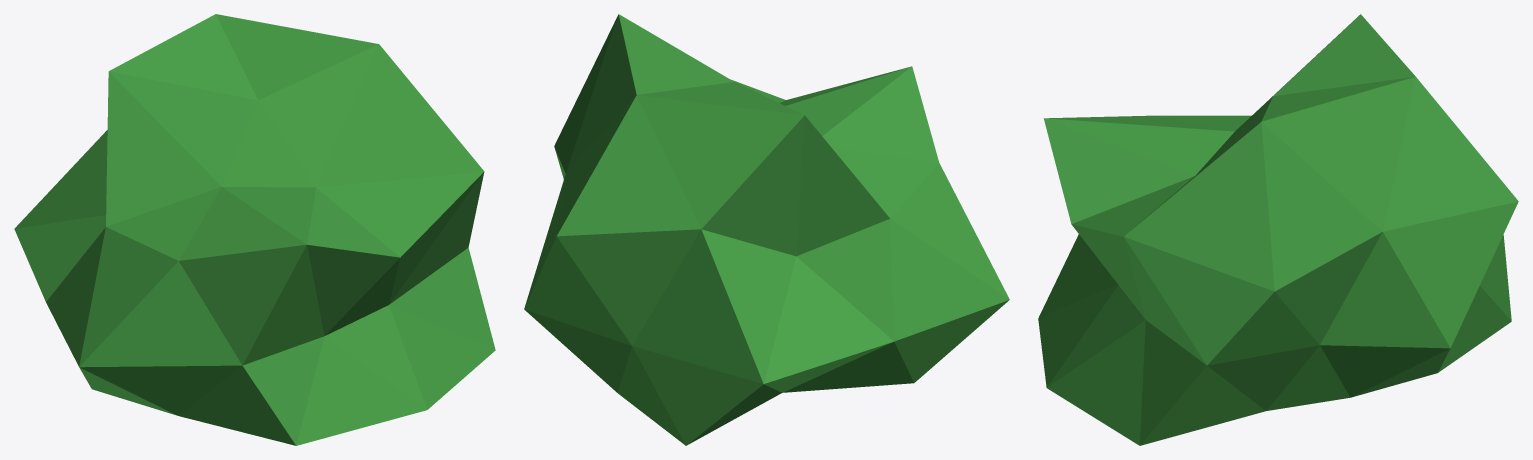
Rendered from Bush.fbx.
3 renders of one model, left to right at view 1: azimuth 30°, elevation 25°; view 2: azimuth 150°, elevation 25°; view 3: azimuth 270°, elevation 25°, orthographic. The views are drawn at different scales.
Visible parts, largest first — view 1: tree_2; view 2: tree_2; view 3: tree_2.
Part boxes in pixels (box(x1,y1,x2,y2)): tree_2: box(14, 14, 495, 445); tree_2: box(524, 14, 1009, 445); tree_2: box(1038, 14, 1518, 445).
Bounding box in the file's own units: 73.21 × 48.79 × 72.3.
